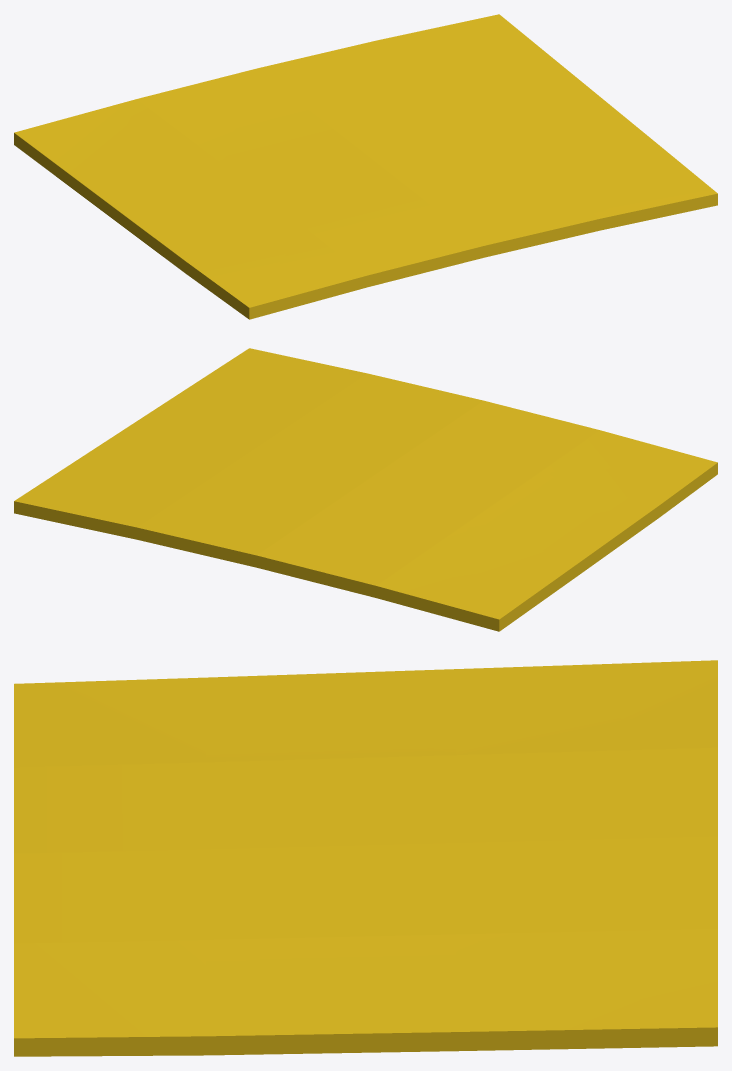
The model's file is vortex_r_bonnet.glb.
3 renders of one model, top to bottom at view 1: azimuth 30°, elevation 25°; view 2: azimuth 150°, elevation 25°; view 3: azimuth 270°, elevation 25°, orthographic. The views are drawn at different scales.
Parts seen in each view (by area): view 1: vortex_r_bonnet; view 2: vortex_r_bonnet; view 3: vortex_r_bonnet.
Boxes of the visible parts, box(x1,y1,x2,y2) form: vortex_r_bonnet: box(14, 14, 717, 319); vortex_r_bonnet: box(14, 348, 717, 631); vortex_r_bonnet: box(14, 660, 717, 1056).
Size of the model in its own units: 1.45 by 0.0795 by 1.17.
